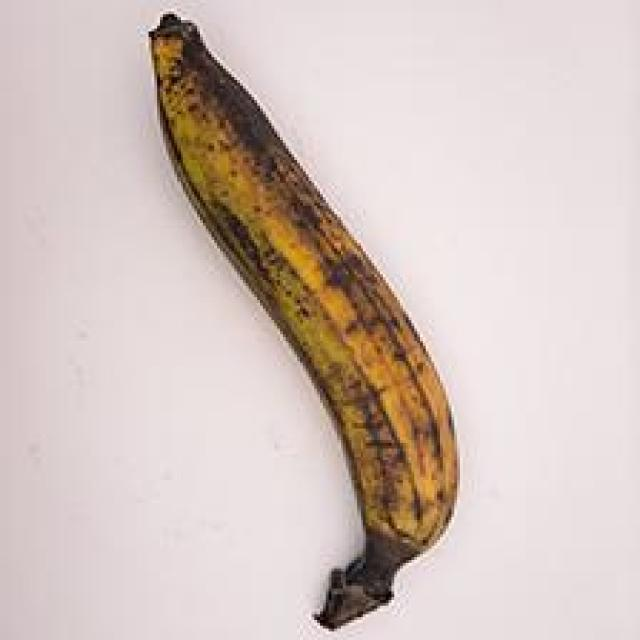Overripe: (88, 0, 514, 631)
